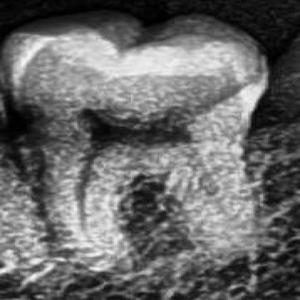tooth: (0, 10, 265, 268)
